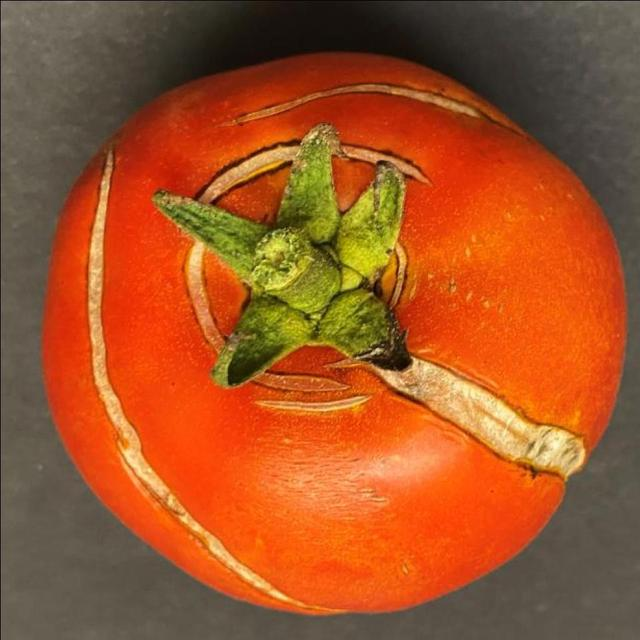Cracking Fruit: (120, 29, 312, 310)
